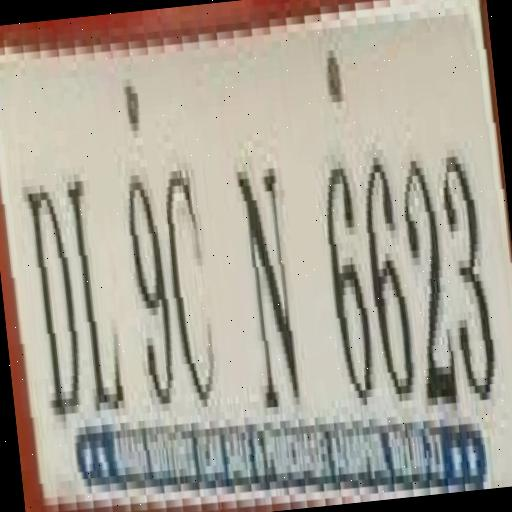number plate: (0, 0, 507, 508)
